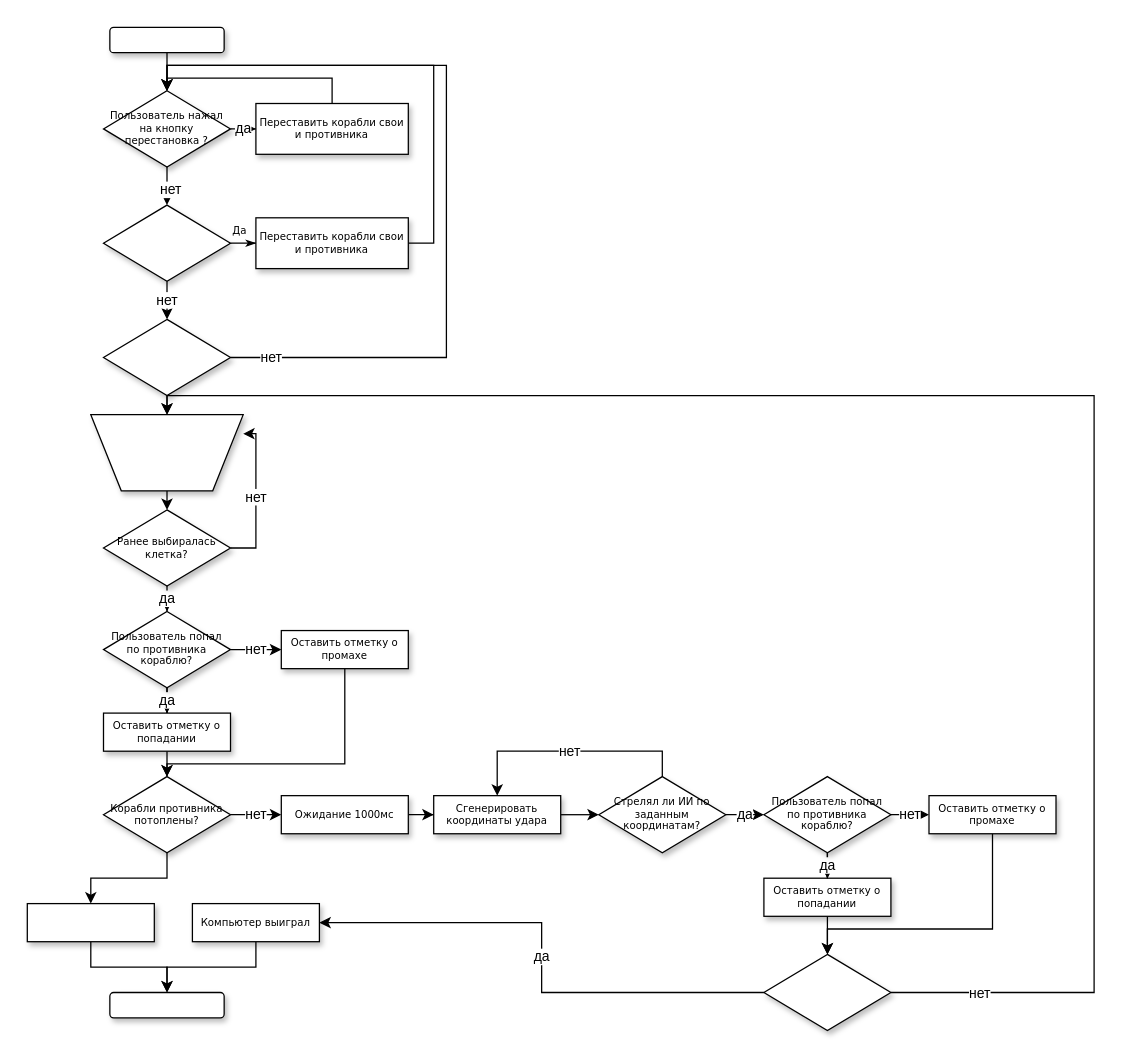
The diagram is 1126 pixels wide and 1062 high, and some of its shapes have lost their labels. Each missing label, with the centre of its shape:
Игрок выиграл: the point at 91,924
Конец: the point at 168,1006
Корабли игрока потоплены?: the point at 828,993
Начало: the point at 168,41
Пока пользователь не нажал на ячейку сетки противника: the point at 167,454
Пользователь нажал на кнопку начать?: the point at 167,358
Пользователь переставил один из своих кораблей?: the point at 167,244
